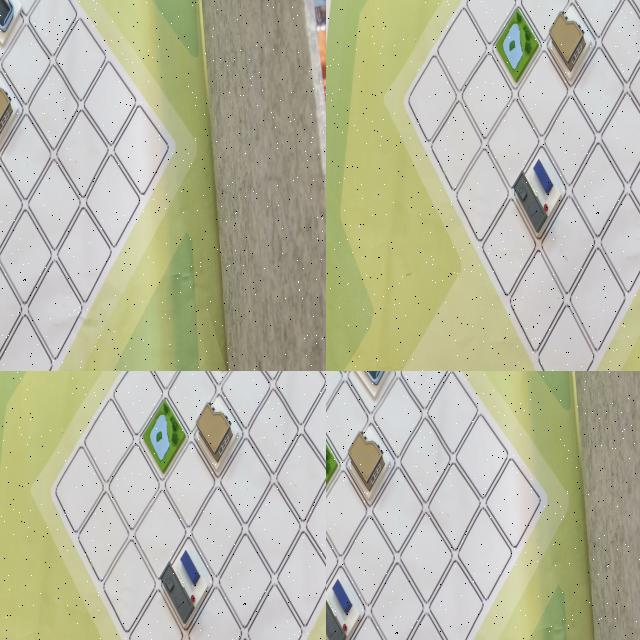bus_stop: (188, 467, 249, 568), (326, 558, 366, 640), (0, 173, 27, 260), (353, 32, 388, 80)
factory: (38, 371, 98, 413), (326, 371, 342, 396)
fish_pool: (293, 371, 326, 418), (326, 371, 342, 399)
forest: (347, 76, 388, 141), (251, 371, 300, 411), (425, 371, 470, 412), (0, 59, 23, 123)
gogo_shop: (347, 371, 398, 410), (0, 152, 23, 223), (382, 40, 414, 78)
research_build: (69, 408, 132, 505), (0, 336, 23, 371), (326, 371, 346, 403)
restaurant: (104, 532, 162, 629), (343, 417, 399, 514), (388, 74, 428, 140), (0, 142, 28, 224)
silicate_rock: (159, 371, 210, 411), (347, 0, 387, 43), (491, 371, 534, 407), (0, 0, 17, 46)
volunteer_center: (197, 371, 246, 413), (351, 328, 394, 371), (0, 298, 19, 369), (326, 371, 343, 405)
wet_land: (389, 322, 432, 371), (0, 233, 27, 308), (326, 417, 349, 500), (120, 617, 186, 640)
